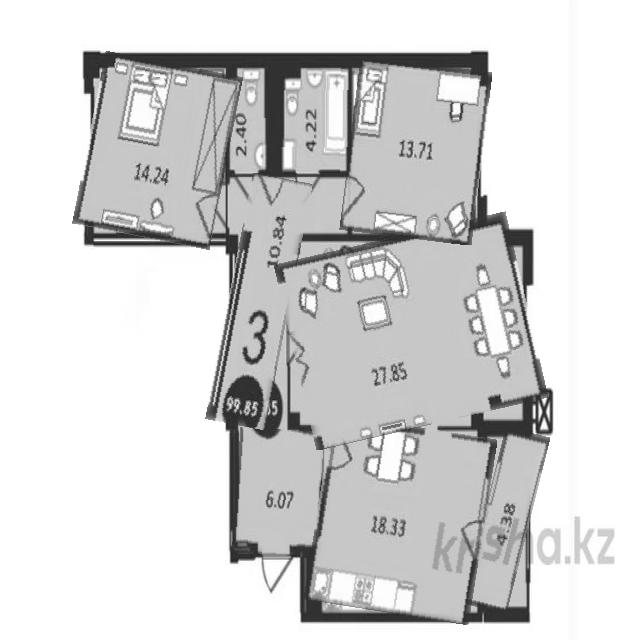balcony: (473, 428, 539, 613)
bathroom: (273, 64, 350, 173), (228, 62, 274, 174)
hallway: (217, 174, 300, 429), (234, 429, 322, 557)
kitchen: (310, 420, 491, 620)
living_room: (284, 223, 540, 438), (80, 57, 236, 245), (344, 60, 487, 241)
